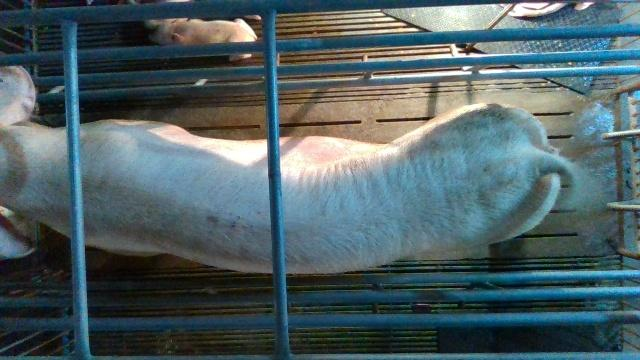piglet: (145, 18, 257, 62)
sow-stand-feed: (1, 64, 584, 275)
